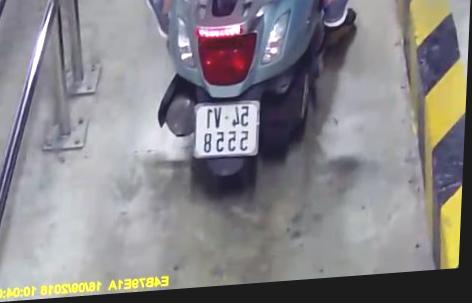License_Plate: (183, 92, 273, 170)
